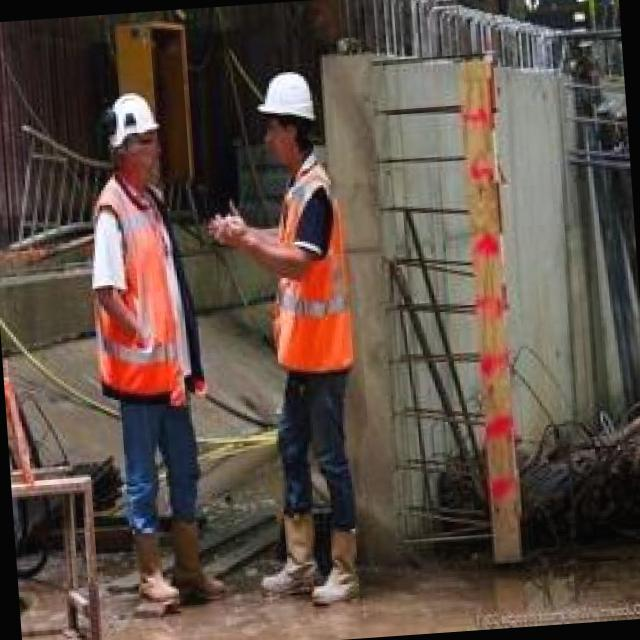boots: (248, 507, 329, 607), (162, 510, 242, 610), (300, 526, 374, 616), (122, 521, 190, 608)
helmet: (244, 65, 326, 134), (92, 82, 167, 156)
vest: (74, 163, 213, 416), (247, 142, 365, 388)
